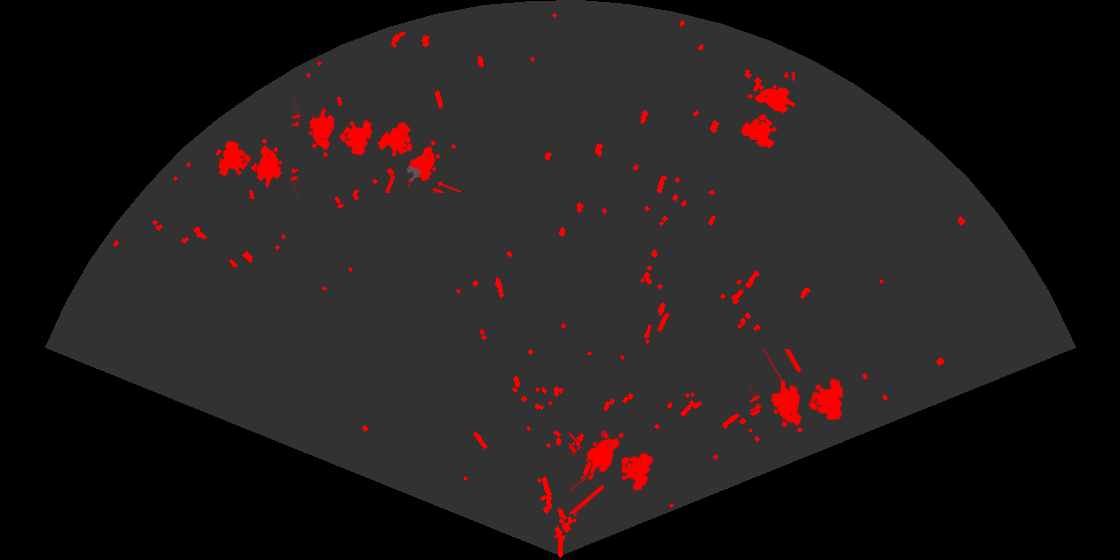cage: (750, 349, 845, 435), (569, 430, 655, 514), (376, 120, 461, 193), (292, 97, 374, 159), (217, 137, 298, 199), (739, 72, 795, 150)
